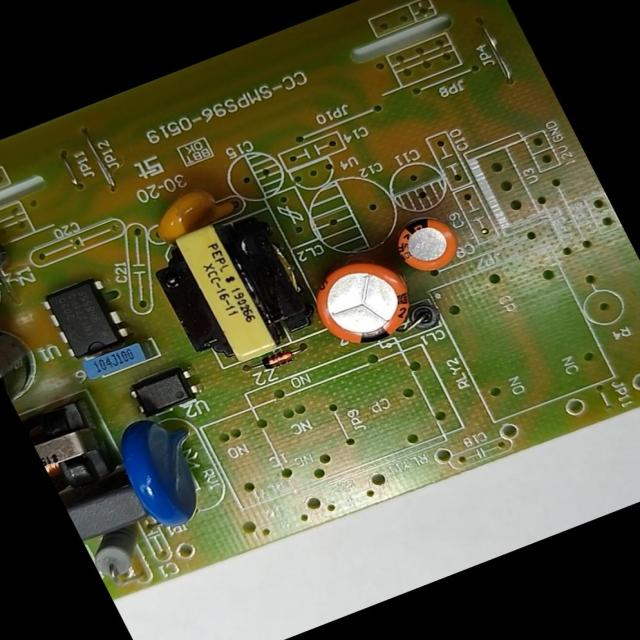Cap1: (297, 245, 434, 359)
Cap2: (386, 206, 471, 282)
Cap3: (0, 321, 60, 417)
Cap4: (0, 241, 17, 333)
MOSFET: (37, 271, 137, 364)
Mov: (102, 402, 233, 538)
Resistor: (85, 525, 158, 586)
Transformer: (140, 204, 326, 381), (21, 397, 123, 498)
